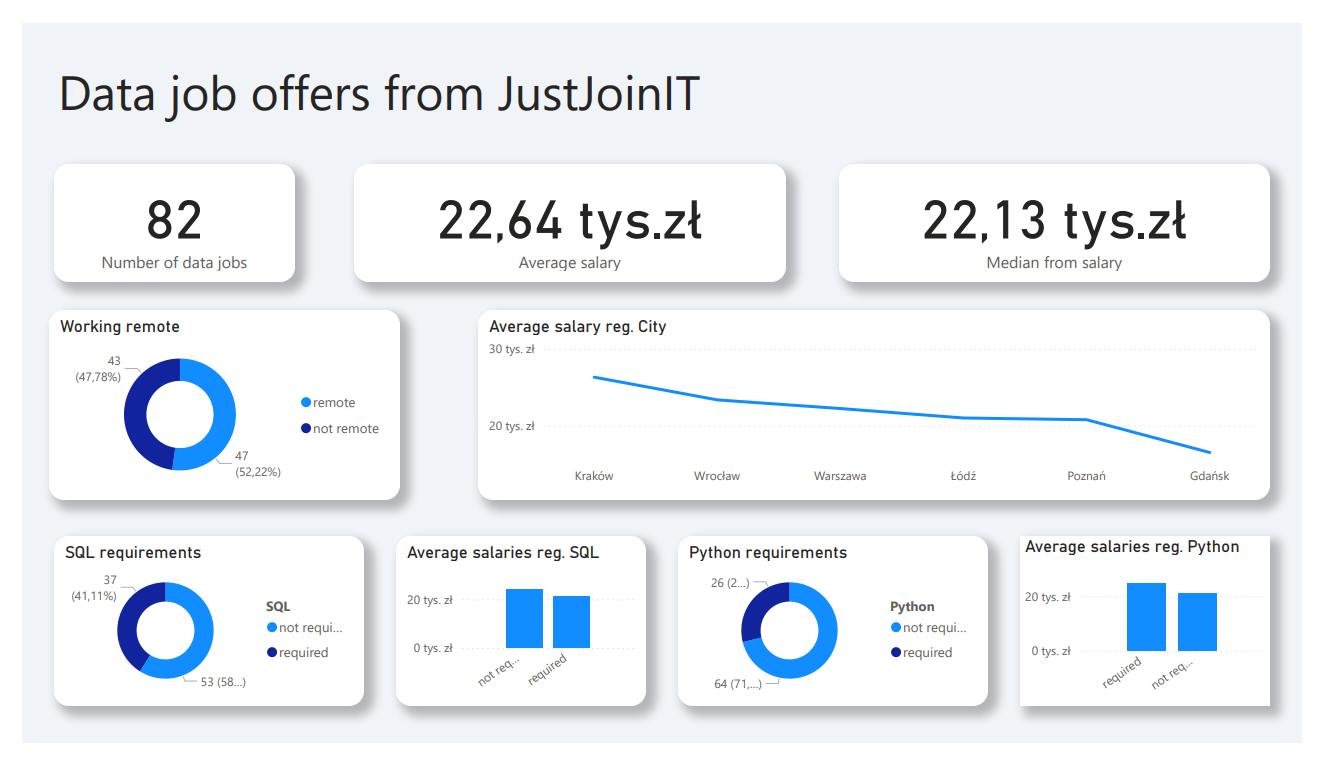

Layout of this report page (visuals, bound fields, positions):
{"tool":"powerbi","page":{"name":"Strona 1","canvas":[1280,720],"ordinal":0},"visuals":[{"type":"card","fields":{"Values":["Count(Arkusz1.Job)"]},"box":[31.8,140.9,240.9,118.2],"z":7000},{"type":"card","fields":{"Values":["Avg(Arkusz1.proper_average_salary)"]},"box":[331.8,140.9,431.8,118.2],"z":8000},{"type":"card","fields":{"Values":["Median(Arkusz1.proper_average_salary)"]},"box":[817.3,140.9,430.9,118.2],"z":9000},{"type":"donutChart","title":"Working remote ","fields":{"Category":["Arkusz1.Remote"],"Y":["CountNonNull(Arkusz1.Remote)"]},"box":[27.3,287.3,350.9,190],"z":10000},{"type":"lineChart","title":"Average salary reg. City ","fields":{"Category":["Arkusz1.City"],"Y":["Avg(Arkusz1.proper_average_salary)"]},"box":[455.8,287,792.4,190],"z":11000},{"type":"donutChart","title":"SQL requirements","fields":{"Category":["Arkusz1.SQL"],"Y":["CountNonNull(Arkusz1.SQL)"]},"box":[32,513,310,170],"z":12000},{"type":"columnChart","title":"Average salaries reg. SQL ","fields":{"Category":["Arkusz1.SQL"],"Y":["Avg(Arkusz1.proper_average_salary)"]},"box":[374,513,250,170],"z":13000},{"type":"donutChart","title":"Python requirements","fields":{"Category":["Arkusz1.Python "],"Y":["CountNonNull(Arkusz1.Python )"]},"box":[656,513,310,170],"z":14000},{"type":"columnChart","title":"Average salaries reg. Python","fields":{"Category":["Arkusz1.Python "],"Y":["Avg(Arkusz1.proper_average_salary)"]},"box":[998,513,250,170],"z":15000},{"type":"textbox","box":[30.7,29.9,705.1,89.6],"z":16000}]}

Visuals, with their boxes in screenshot pixels (x1, y1, x2, y2), scaled from the page's 1280x720 canvas onto the 1326x764 screenshot:
card - Count(Arkusz1.Job): 33,150,283,275
card - Avg(Arkusz1.proper_average_salary): 344,150,791,275
card - Median(Arkusz1.proper_average_salary): 847,150,1293,275
"Working remote " donutChart: 28,305,392,506
"Average salary reg. City " lineChart: 472,305,1293,506
"SQL requirements" donutChart: 33,544,354,725
"Average salaries reg. SQL " columnChart: 387,544,646,725
"Python requirements" donutChart: 680,544,1001,725
"Average salaries reg. Python" columnChart: 1034,544,1293,725
textbox: 32,32,762,127
